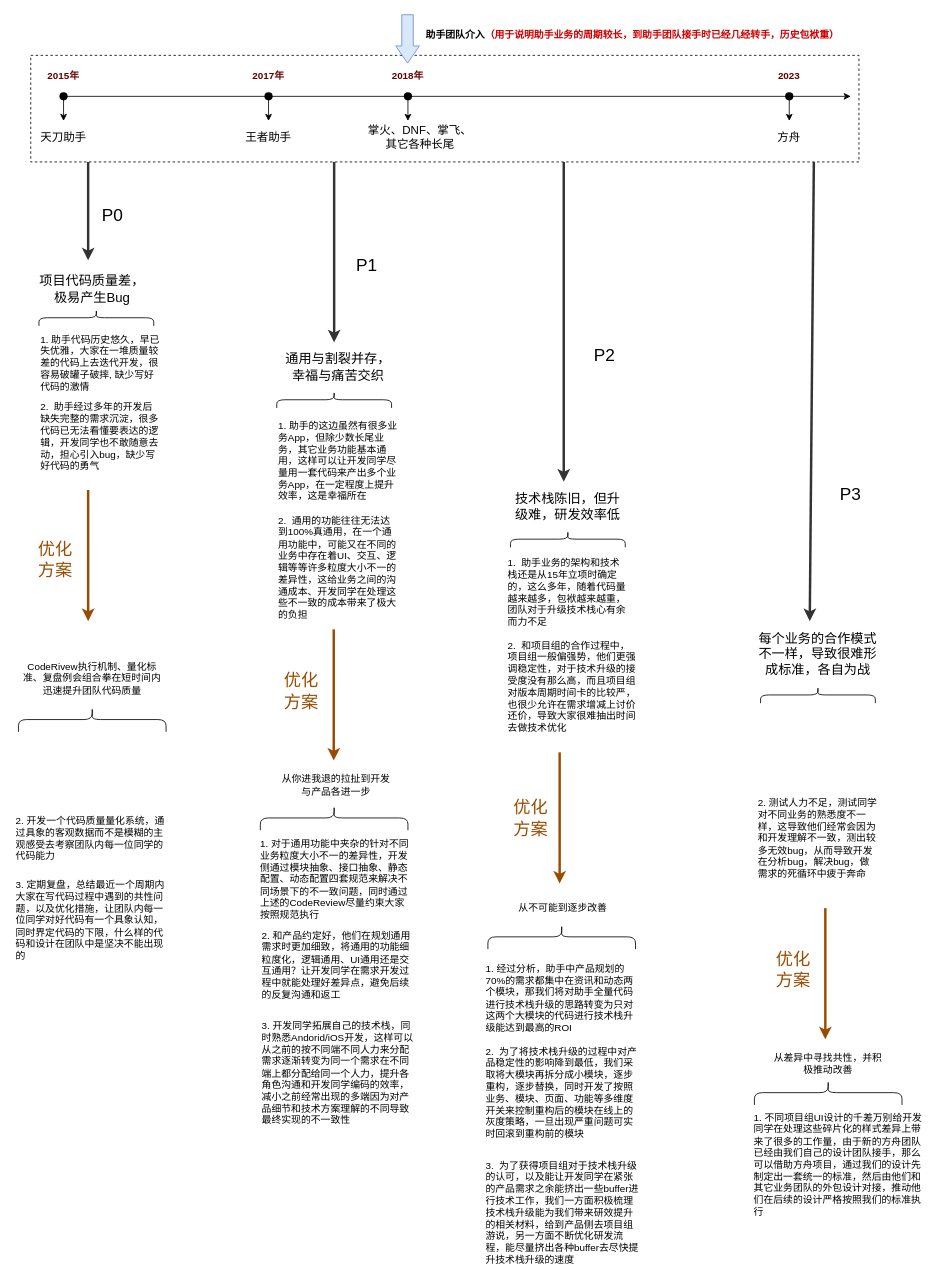
The diagram is 942 pixels wide and 1280 high, and some of its shapes have lost their labels. Here are the shapes that lost their labels. From the top down, the centre of each, then its label:
At [817,694]: "1. 在UI设计上，不同的项目组找不同的设计团队（有内包，有外包），从而导致没有一套统一的设计标准，开发同学需要花费很多精力处理不同业务之间的样式差异".
At [92,719]: "1. 责任制，团队内绝大部分同学的代码质量需要经过几个资深同学的把关，自己以身作则，花费大量精力去审查代码，同时也能倒逼大家对代码更严谨".
